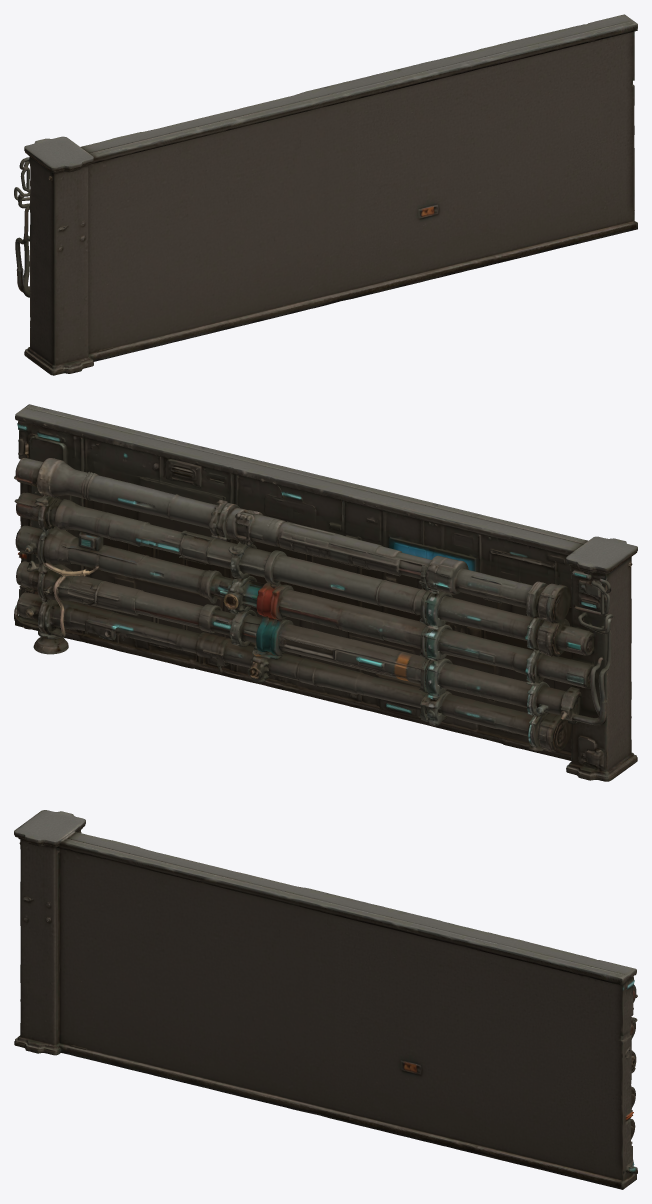
File: pipe_bundle.glb
The picture shows the model from 3 angles, top to bottom: view 1: azimuth 30°, elevation 25°; view 2: azimuth 150°, elevation 25°; view 3: azimuth 330°, elevation 25°; orthographic projection. The views are drawn at different scales.
Visible parts, largest first — view 1: tripo_node_bc98a2e6-38bd-4f2e-8f5c-542a74038dd3; view 2: tripo_node_bc98a2e6-38bd-4f2e-8f5c-542a74038dd3; view 3: tripo_node_bc98a2e6-38bd-4f2e-8f5c-542a74038dd3.
Part boxes in pixels (left/top/right/bottom): tripo_node_bc98a2e6-38bd-4f2e-8f5c-542a74038dd3: left=14, top=14, right=637, bottom=375; tripo_node_bc98a2e6-38bd-4f2e-8f5c-542a74038dd3: left=14, top=404, right=637, bottom=781; tripo_node_bc98a2e6-38bd-4f2e-8f5c-542a74038dd3: left=14, top=810, right=637, bottom=1189.
Size of the model in its own units: 0.9791 by 0.3259 by 0.1266.
Materials: 1 (1 with a texture image).
